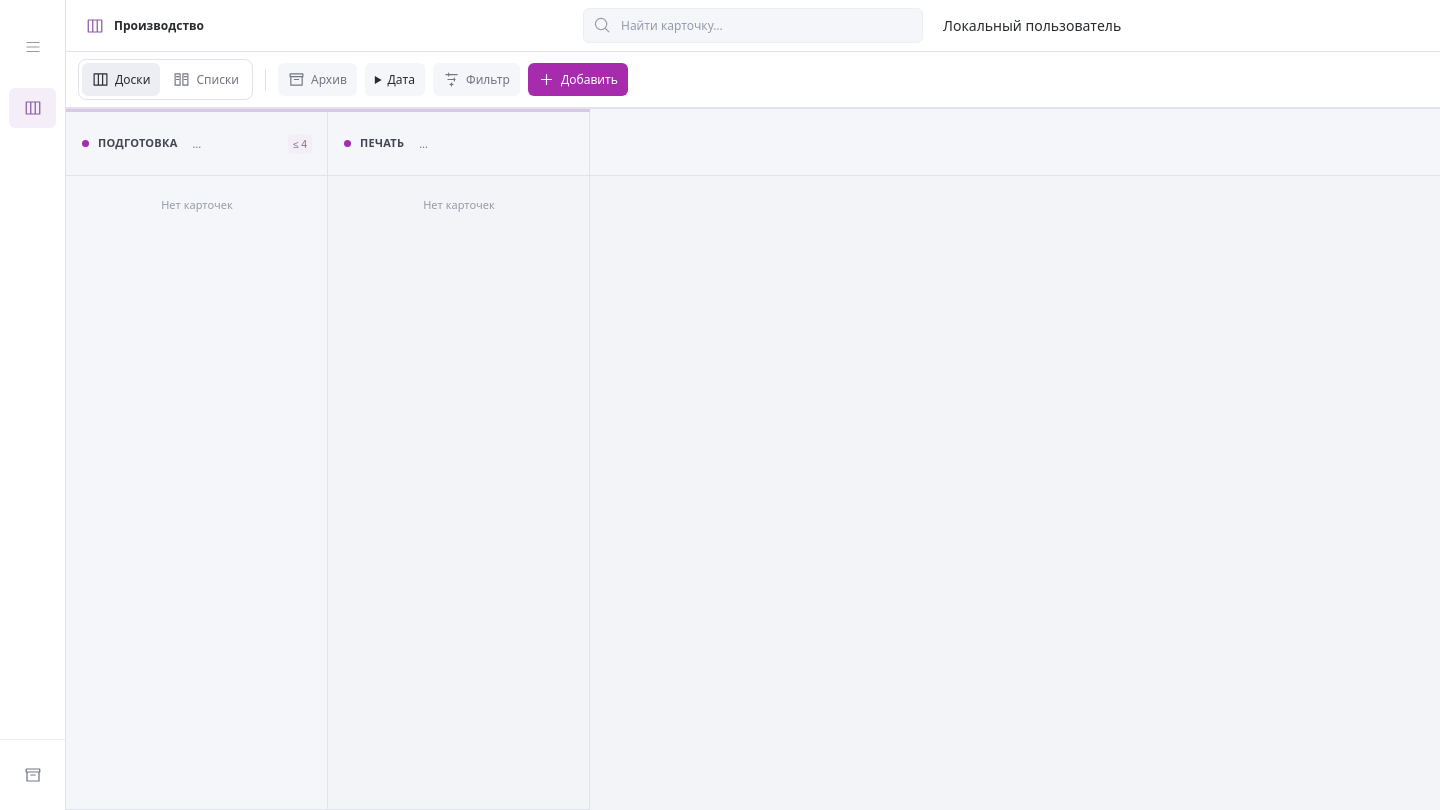
Test: working board homepage › requests cards only after structure and renders real columns and lanes
expect the heading "ПОДГОТОВКА" is shown: met, box [98,135,178,152]
expect the heading "ПЕЧАТЬ" is shown: met, box [360,135,404,152]
Click the button named "Развернуть меню". click: (32, 47)
box: [20,34,46,60]
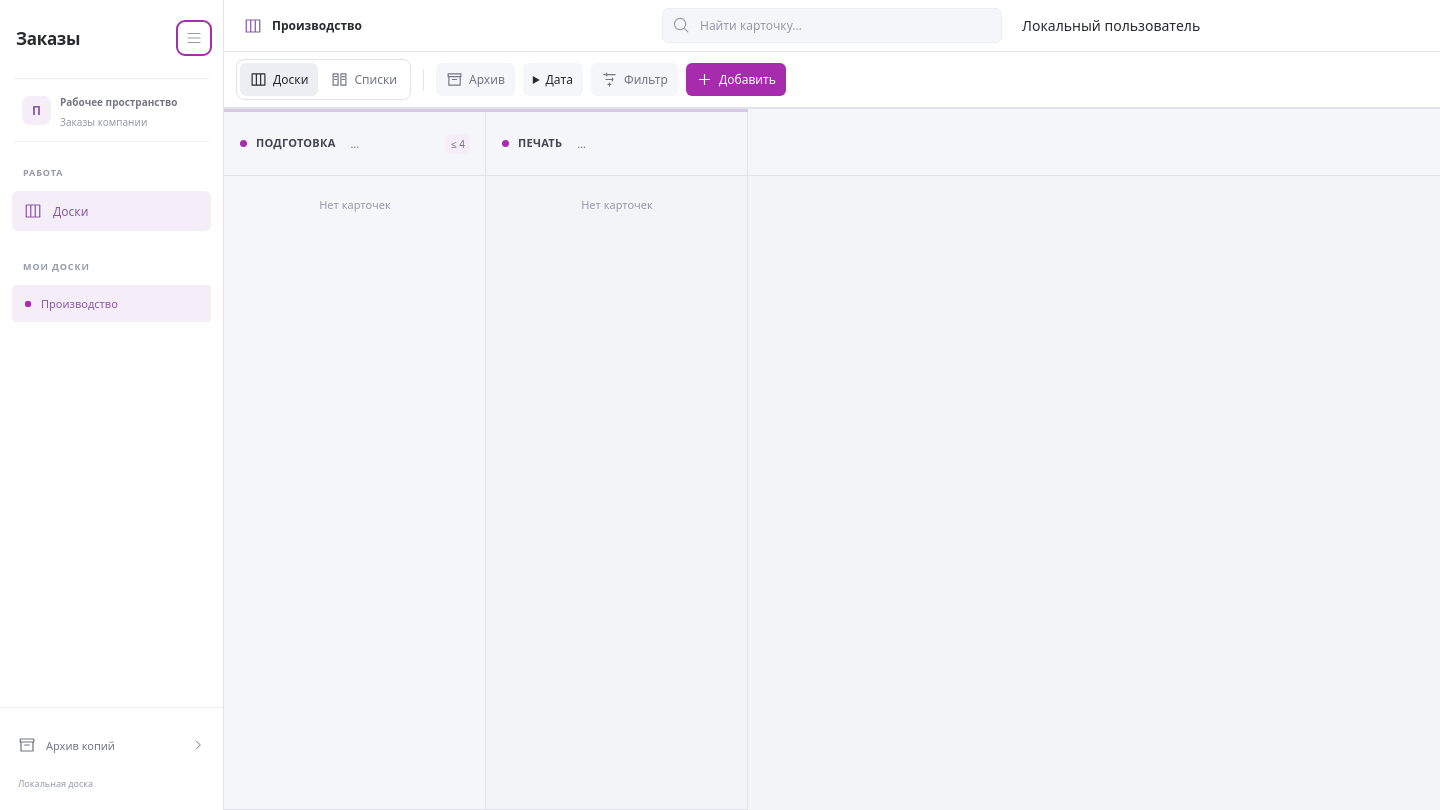
expect the button named "Свернуть меню" is shown: met, box [181,25,207,51]
